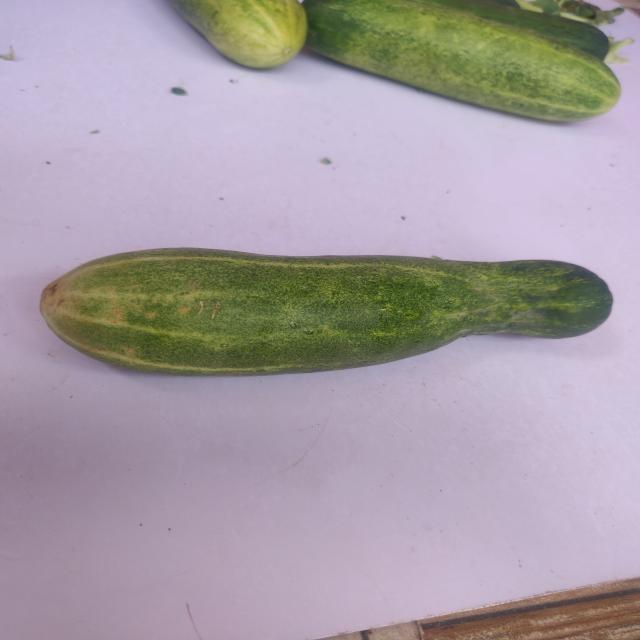Cucumber: (30, 242, 623, 388)
